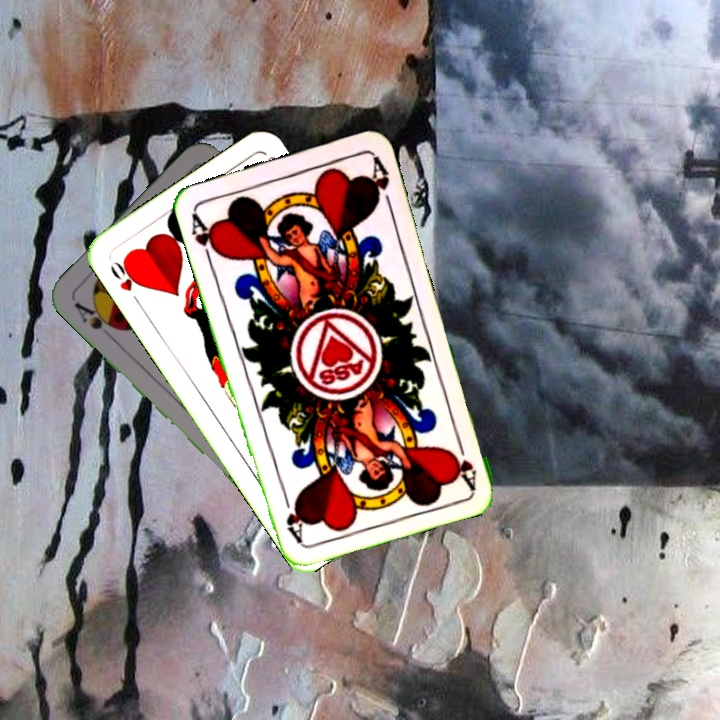HA: (187, 208, 223, 266), (448, 431, 480, 490)
HO: (106, 255, 144, 308)
SA: (70, 298, 121, 333)
